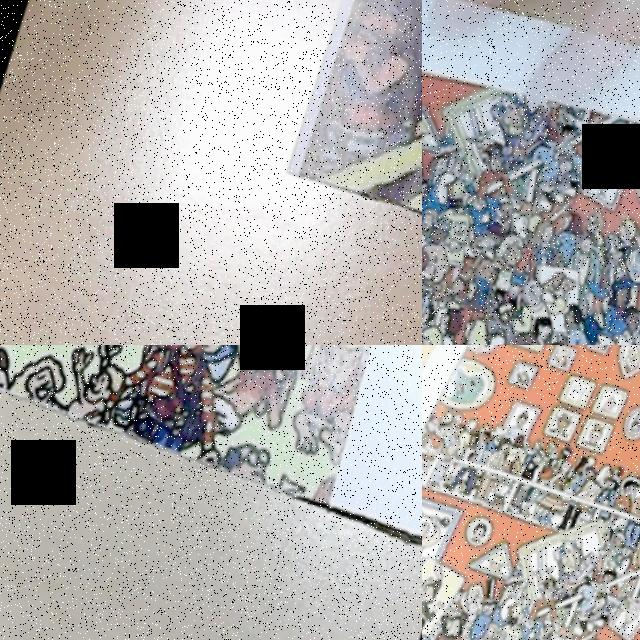waldo: (161, 345, 232, 365)
